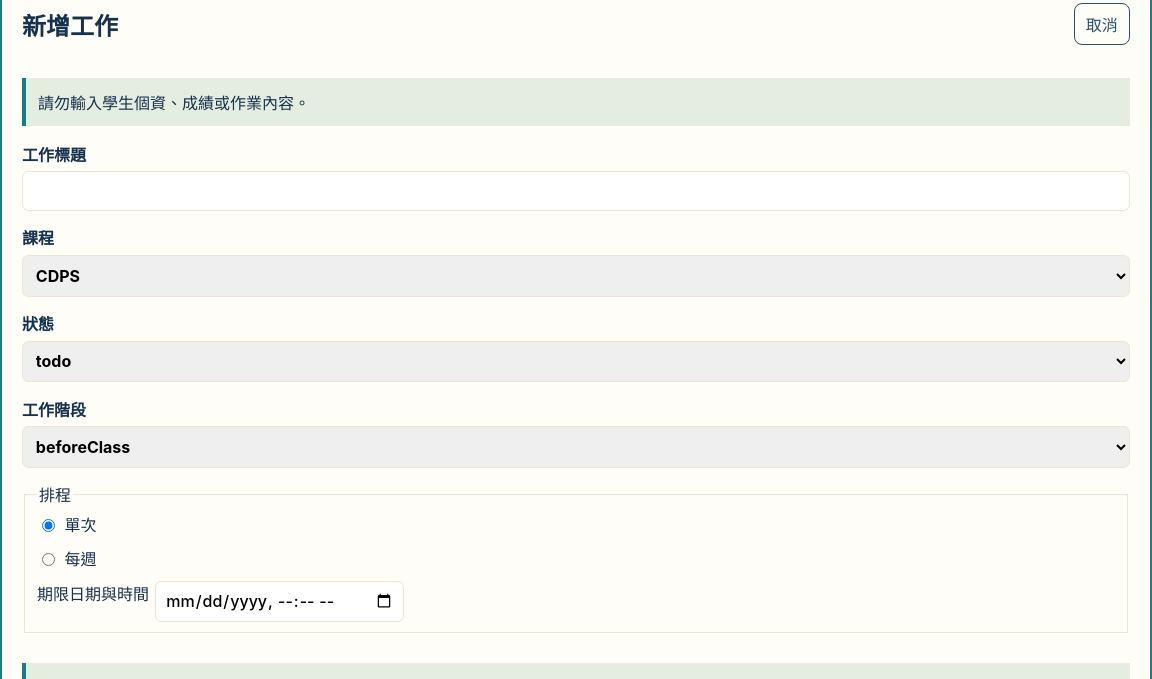
Scenario: TaskEditor › rejects a weekly range whose end week is before its start week before invoking persistence
In the field labelled "工作標題": (576, 191) x1=22 y1=171 x2=1130 y2=211, type "新工作"
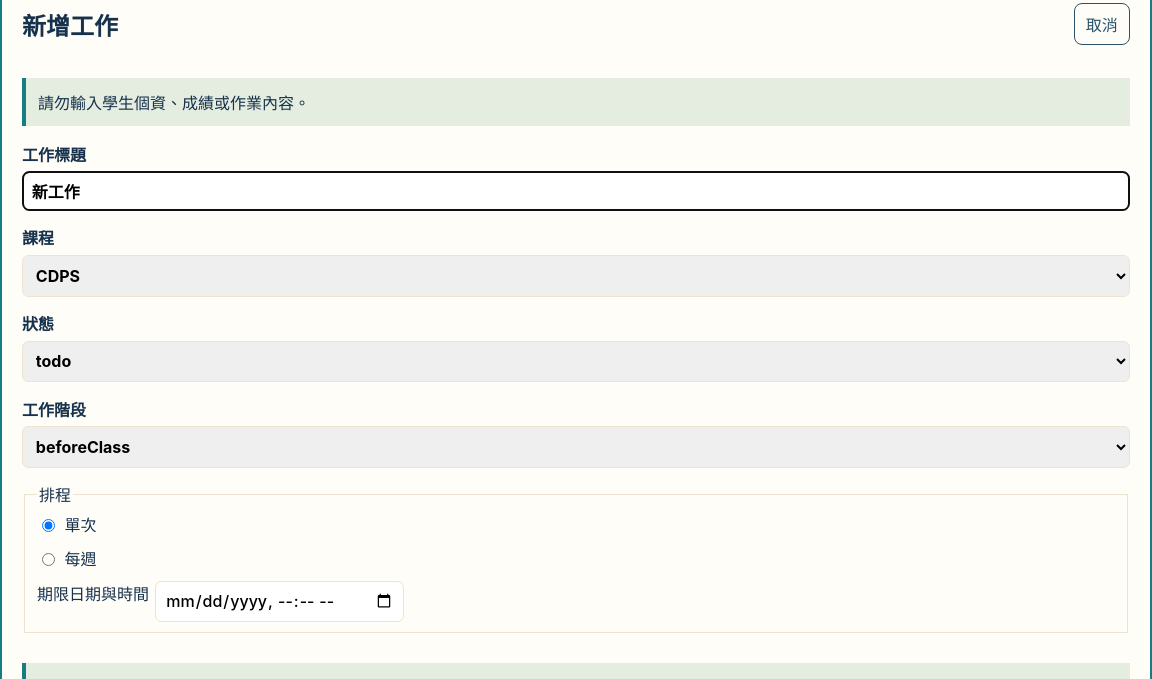
Click the radio button labelled "每週": (48, 560) x1=42 y1=549 x2=55 y2=570
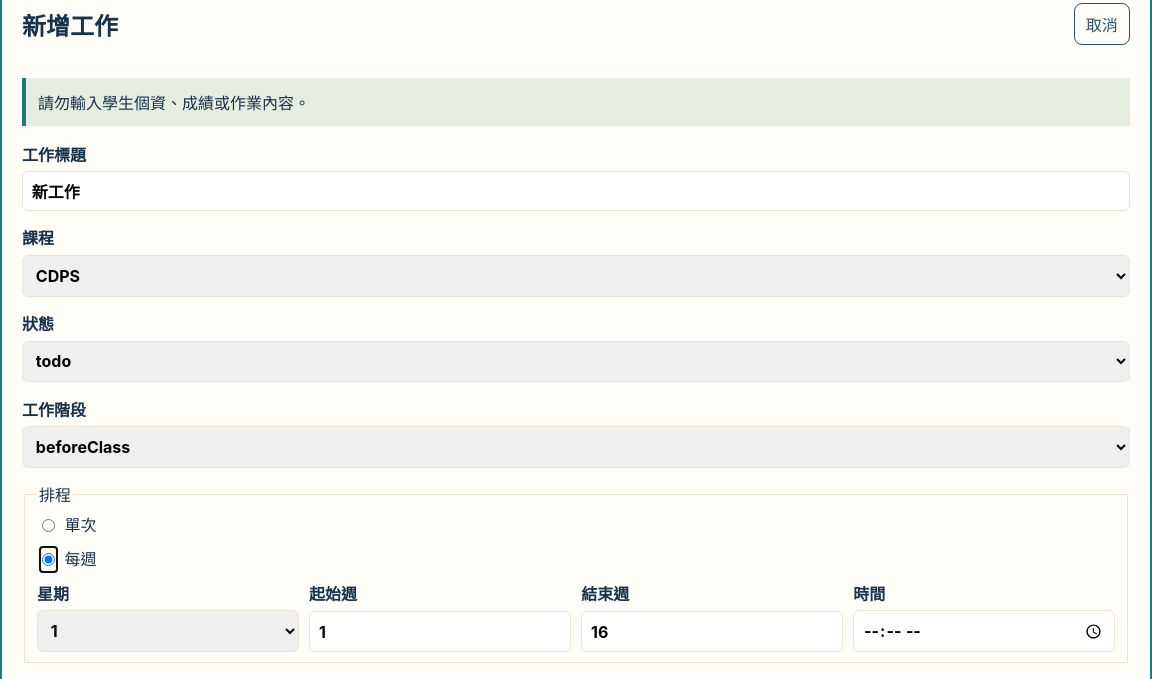
Replace the text in the number field labelled "起始週" with "16": (440, 632) x1=309 y1=612 x2=571 y2=652
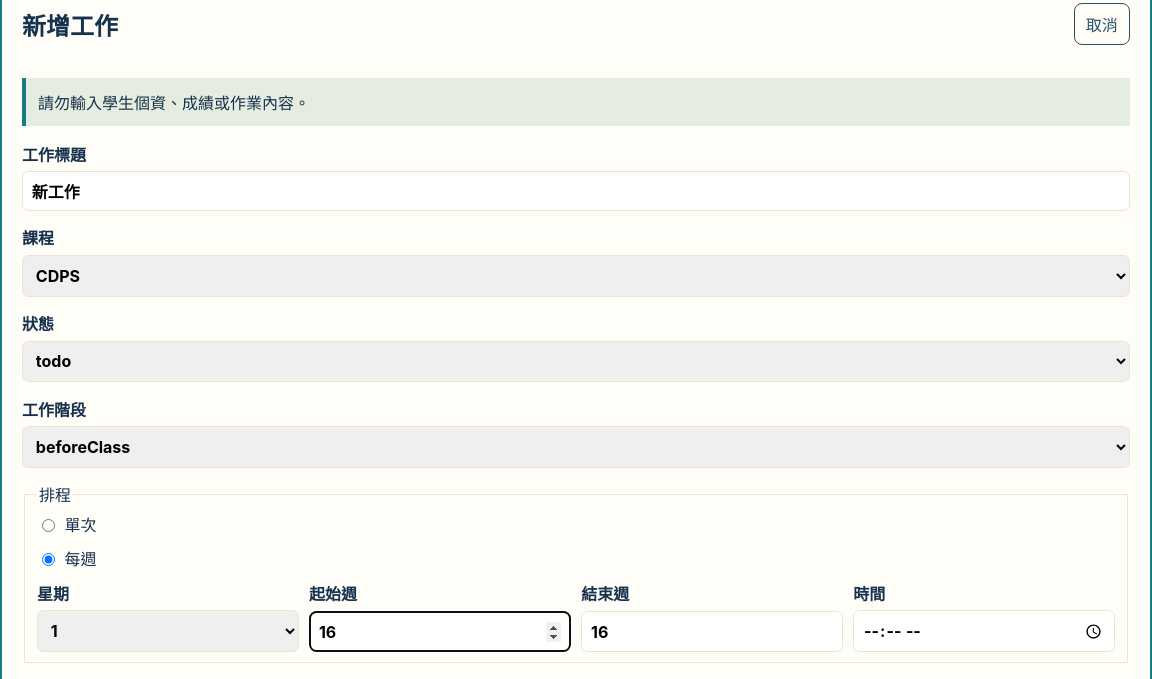
Replace the text in the number field labelled "結束週" with "1": (712, 632) x1=581 y1=612 x2=843 y2=652
(page scrolled)
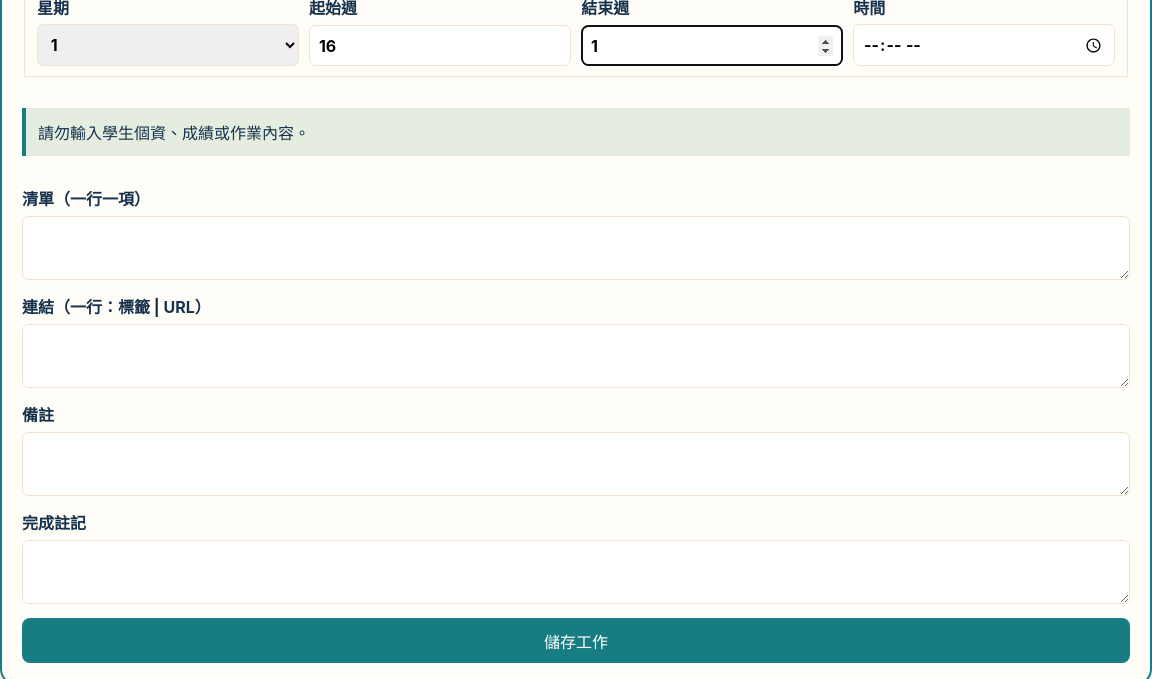
Click the button "儲存工作": (576, 641) x1=22 y1=618 x2=1130 y2=663
(page scrolled)
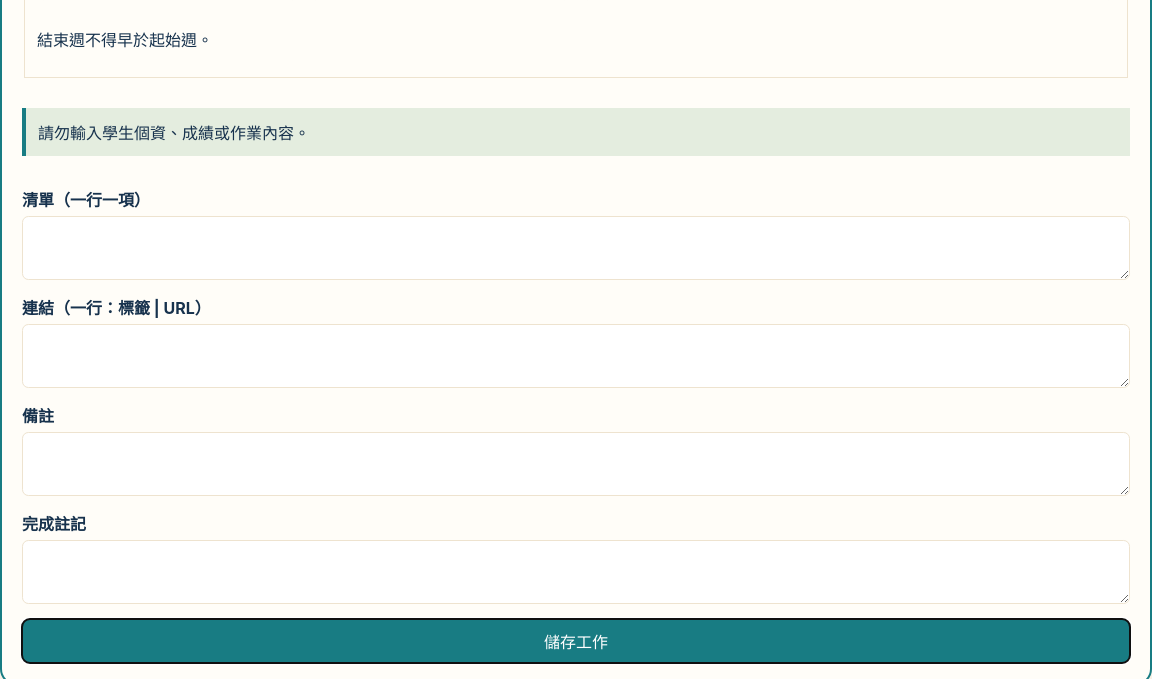
Expected: the message reads "結束週不得早於起始週。", x1=37 y1=30 x2=213 y2=50
